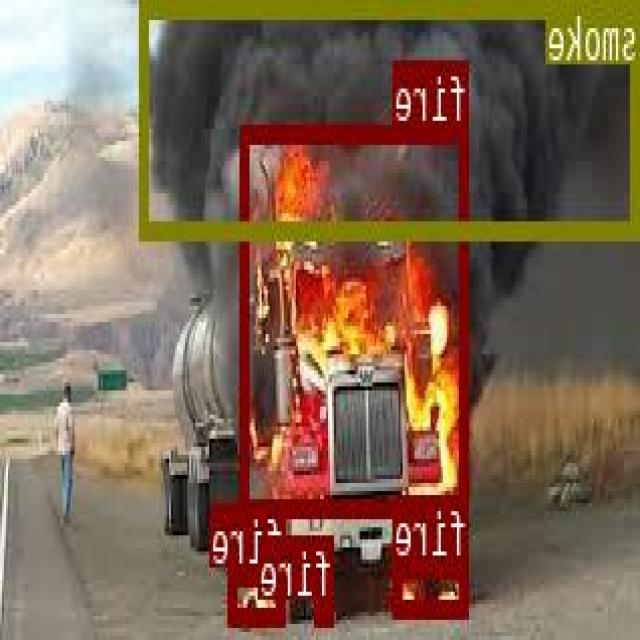fire: (243, 122, 470, 512), (396, 557, 470, 615), (230, 566, 288, 621), (316, 596, 336, 620)
smoke: (143, 0, 640, 233)
